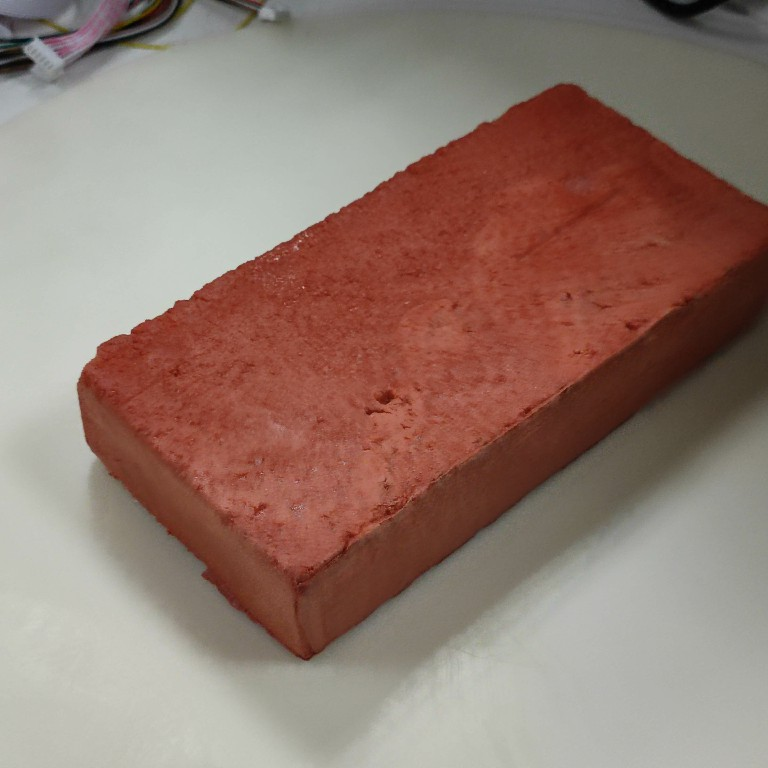brick: (72, 78, 768, 666)
